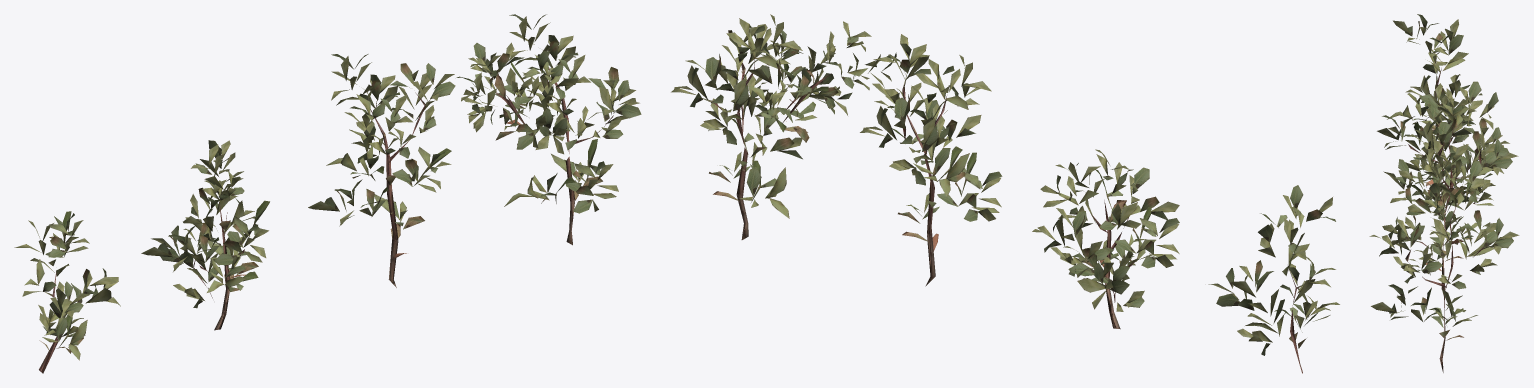
Rendered from shrub_04.glb.
3 views of the same model, side by side, from view 1: azimuth 30°, elevation 25°; view 2: azimuth 150°, elevation 25°; view 3: azimuth 270°, elevation 25° (orthographic). The views are drawn at different scales.
Visible parts, largest first — view 1: shrub_04; view 2: shrub_04; view 3: shrub_04.
Part boxes in pixels (x1,y1,x2,y2): shrub_04: (14,14,641,373); shrub_04: (671,14,1339,373); shrub_04: (1369,14,1519,372).
Bounding box in the file's own units: 0.5837 × 0.2185 × 0.1461.
1 material, 1 textured.
